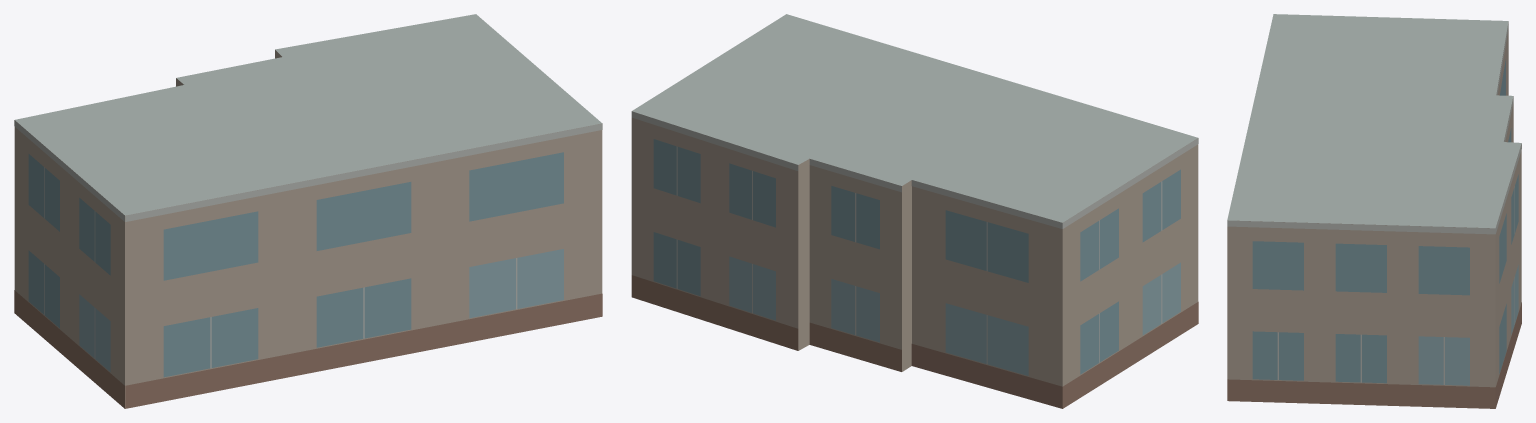
The model's file is survey-upis-33007506.glb.
3 renders of one model, left to right at view 1: azimuth 30°, elevation 25°; view 2: azimuth 150°, elevation 25°; view 3: azimuth 270°, elevation 25°, orthographic. The views are drawn at different scales.
Parts seen in each view (by area): view 1: survey-upis-33007506.tmp; view 2: survey-upis-33007506.tmp; view 3: survey-upis-33007506.tmp.
Part boxes in pixels (bbox=[...]): survey-upis-33007506.tmp: bbox=[14, 14, 602, 408]; survey-upis-33007506.tmp: bbox=[631, 14, 1198, 408]; survey-upis-33007506.tmp: bbox=[1227, 14, 1521, 408].
Bounding box in the file's own units: 18.33 × 7.2 × 10.66.
